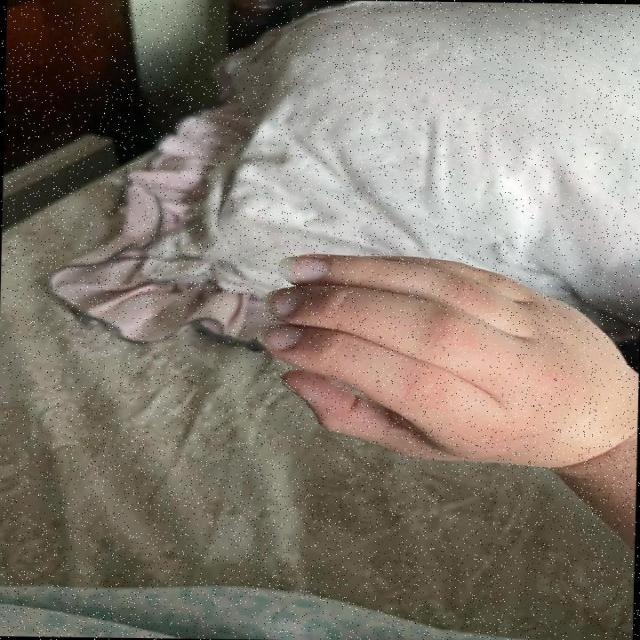C: (237, 240, 626, 483)
